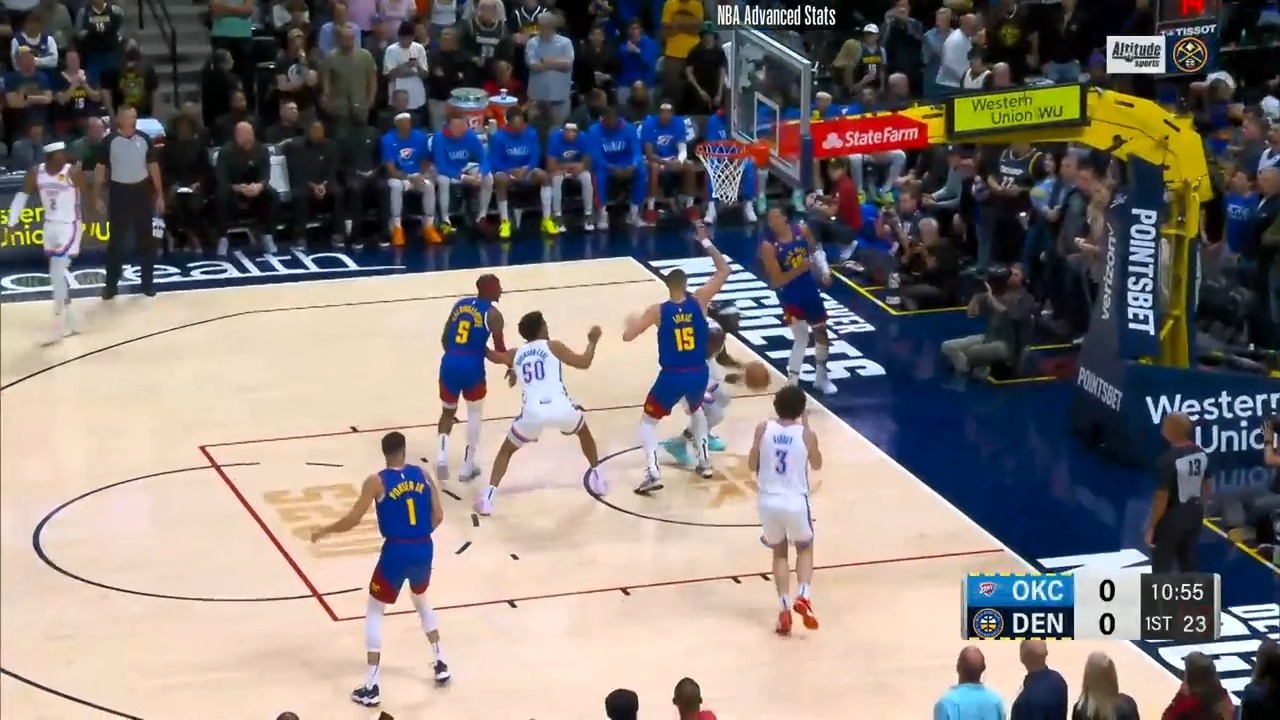net: (693, 132, 771, 207)
player: (308, 426, 463, 708), (621, 262, 746, 501), (483, 306, 613, 517), (734, 382, 826, 646), (431, 271, 512, 496), (665, 291, 767, 468), (763, 207, 849, 403), (27, 141, 92, 349)
referee: (91, 106, 165, 311), (1138, 412, 1208, 581)
